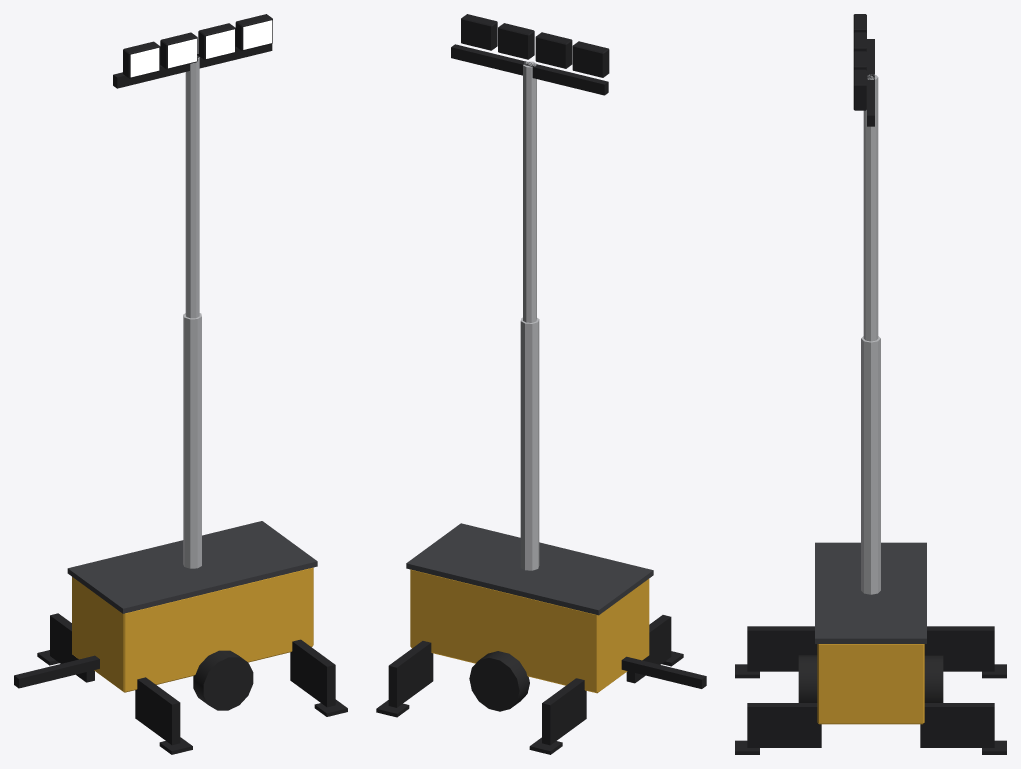
Rendered from light_tower.glb.
3 views of the same model, side by side, from view 1: azimuth 30°, elevation 25°; view 2: azimuth 150°, elevation 25°; view 3: azimuth 270°, elevation 25° (orthographic). The views are drawn at different scales.
Parts seen in each view (by area): view 1: Body_LOD0; view 2: Body_LOD0; view 3: Body_LOD0.
Part boxes in pixels (x1=…): Body_LOD0: x1=14, y1=14, x2=347, y2=754; Body_LOD0: x1=376, y1=14, x2=706, y2=754; Body_LOD0: x1=735, y1=14, x2=1006, y2=754.
Bounding box in the file's own units: 3.88 × 8.88 × 3.3.
